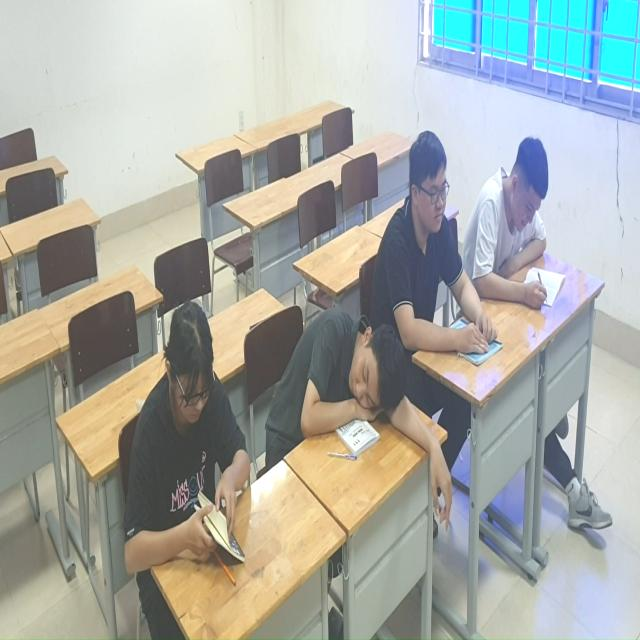read: (114, 291, 271, 621), (375, 120, 502, 371), (471, 129, 574, 320)
sleep: (265, 291, 445, 524)
